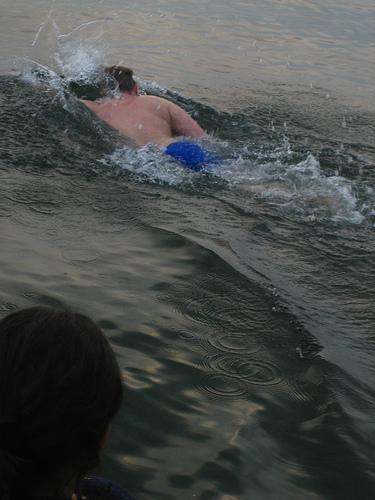human: (75, 58, 209, 168)
